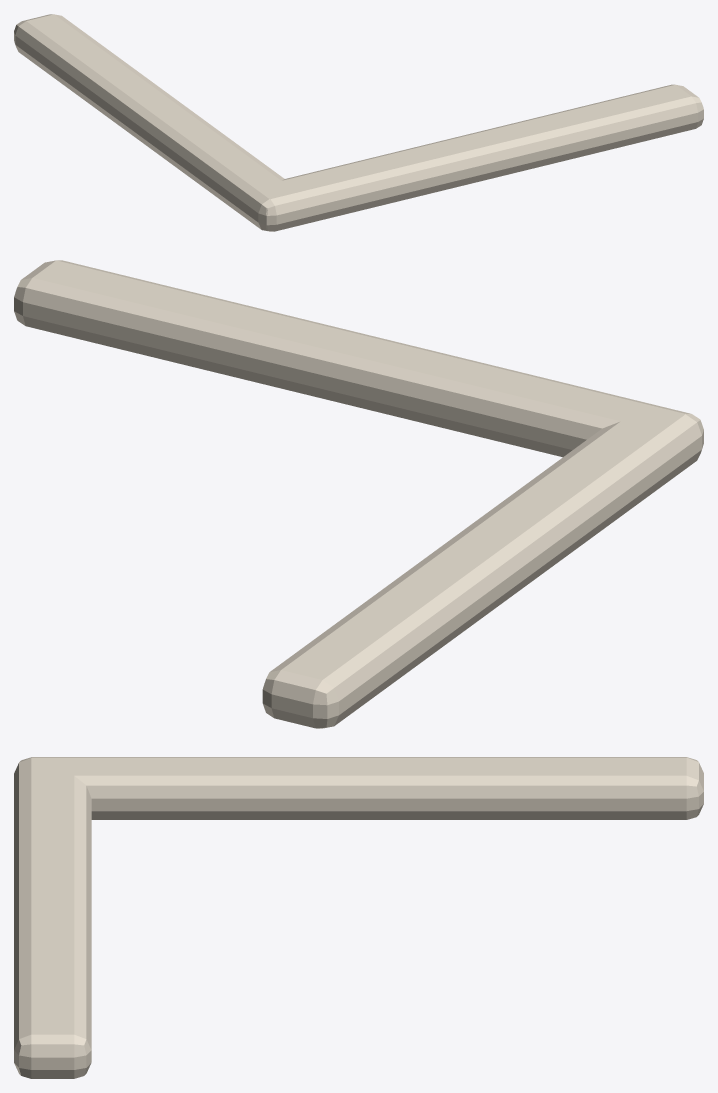
File: plaza_edge_corner_4m_lod1_v2.glb
The picture shows the model from 3 angles, top to bottom: view 1: azimuth 30°, elevation 25°; view 2: azimuth 150°, elevation 25°; view 3: azimuth 270°, elevation 25°; orthographic projection. The views are drawn at different scales.
Visible parts, largest first — view 1: LOD1_PLAZA_EDGE_CORNER_4M_CurbX, LOD1_PLAZA_EDGE_CORNER_4M_CurbY; view 2: LOD1_PLAZA_EDGE_CORNER_4M_CurbX, LOD1_PLAZA_EDGE_CORNER_4M_CurbY; view 3: LOD1_PLAZA_EDGE_CORNER_4M_CurbY, LOD1_PLAZA_EDGE_CORNER_4M_CurbX.
Boxes of the visible parts, x1=… form: LOD1_PLAZA_EDGE_CORNER_4M_CurbX: x1=255, y1=84, x2=703, y2=231; LOD1_PLAZA_EDGE_CORNER_4M_CurbY: x1=14, y1=14, x2=296, y2=231; LOD1_PLAZA_EDGE_CORNER_4M_CurbX: x1=14, y1=260, x2=699, y2=457; LOD1_PLAZA_EDGE_CORNER_4M_CurbY: x1=262, y1=405, x2=703, y2=728; LOD1_PLAZA_EDGE_CORNER_4M_CurbY: x1=24, y1=757, x2=703, y2=819; LOD1_PLAZA_EDGE_CORNER_4M_CurbX: x1=14, y1=758, x2=91, y2=1078.
Size of what is drawn, in the model's own units: 4 by 0.28 by 4.01.
